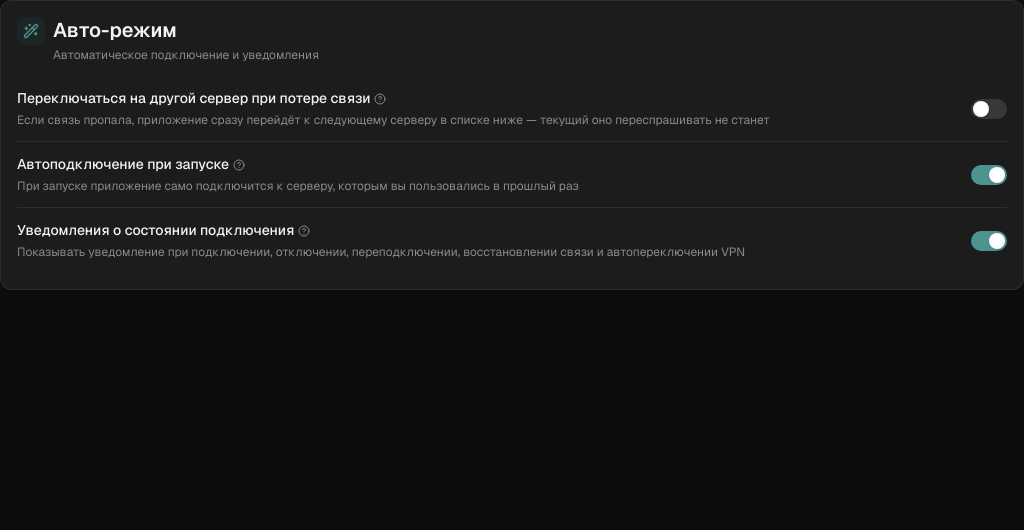
Scenario: AutoModeSettings — the nested panel › brings the panel in when the master is switched on
This screenshot has width=1024, height=530.
Expected: the heading "Авто-режим" is shown, [53,17,177,43]
Click the switch named "Переключаться на другой сервер при потере связи". click: (989, 108)
box: [971,98,1007,118]
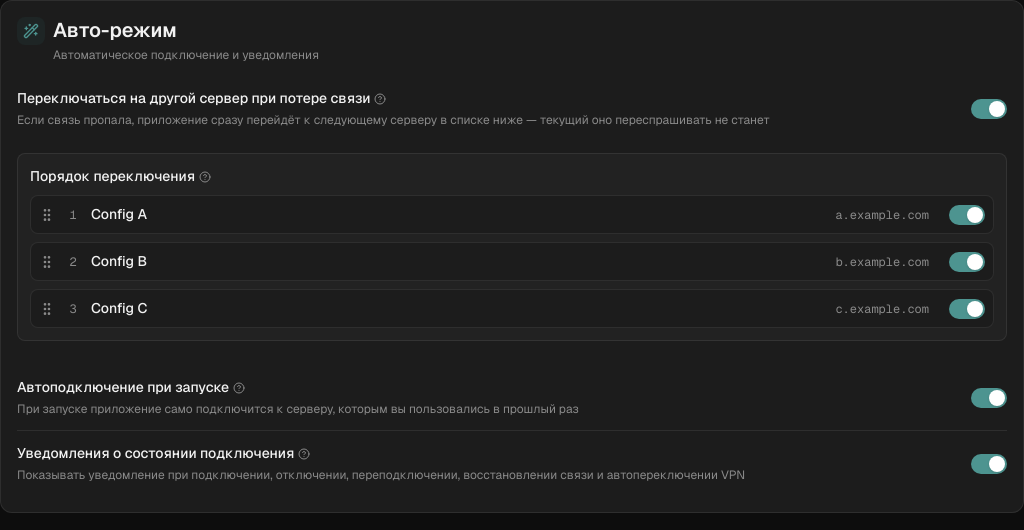
Result: the text "Порядок переключения" is shown at [30,166,211,187]
Result: the number of list items is 3 at [30,195,994,234]; [30,242,994,281]; [30,289,994,328]
